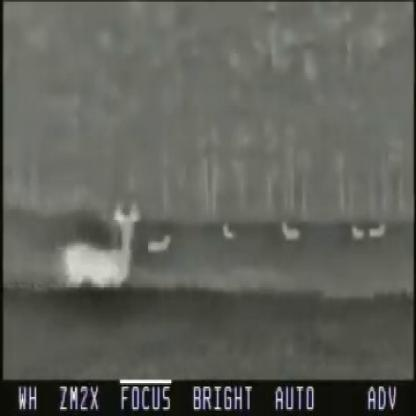rehkitze: (65, 202, 140, 297), (145, 234, 172, 254), (281, 221, 305, 241), (221, 222, 236, 241), (369, 223, 385, 240), (351, 221, 365, 240)
